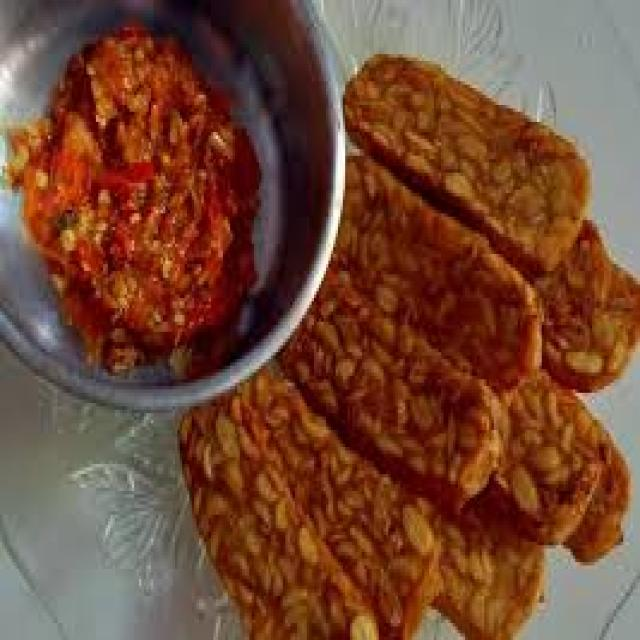Tempe Goreng: (357, 46, 640, 604), (213, 343, 439, 628)
